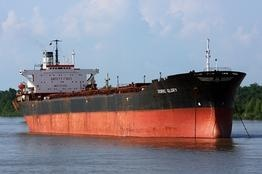Cargoship: (12, 34, 245, 143)
